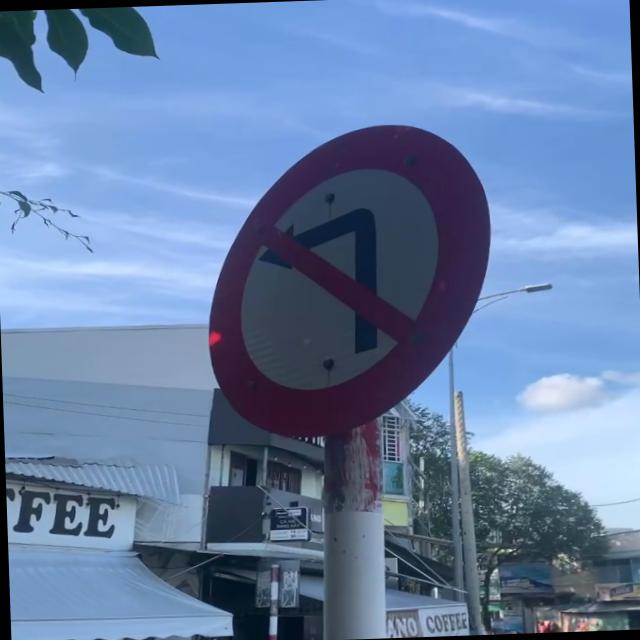Cam_Re_Trai: (196, 119, 499, 438)
